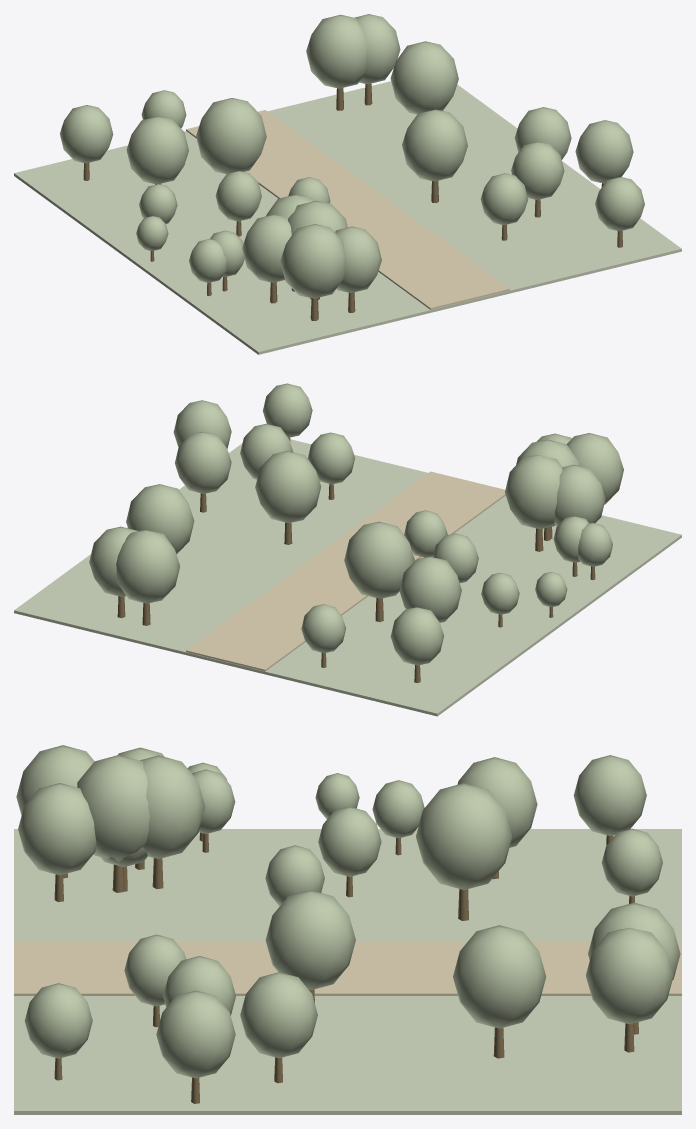
The picture shows the model from 3 angles, top to bottom: view 1: azimuth 30°, elevation 25°; view 2: azimuth 150°, elevation 25°; view 3: azimuth 270°, elevation 25°; orthographic projection. The views are drawn at different scales.
Parts seen in each view (by area): view 1: terrain, object 2, lod-near-6, lod-near-26, lod-near-12, lod-near-13, lod-near-25, lod-near-17, lod-near-18, lod-near-16, lod-near-22, lod-near-14 (+14 smaller); view 2: terrain, object 2, lod-near-6, lod-near-25, lod-near-13, lod-near-4, lod-near-12, lod-near-17, lod-near-19, lod-near-22, lod-near-16, lod-near-26 (+13 smaller); view 3: terrain, object 2, lod-near-6, lod-near-12, lod-near-13, lod-near-21, lod-near-15, lod-near-7, lod-near-18, lod-near-19, lod-near-4, lod-near-22 (+12 smaller).
Boxes of the visible parts, x1,y1,x2,y2 form: terrain: [14, 81, 681, 354]; object 2: [186, 110, 509, 309]; lod-near-6: [196, 98, 266, 173]; lod-near-26: [280, 224, 345, 298]; lod-near-12: [390, 41, 458, 114]; lod-near-13: [402, 109, 467, 181]; lod-near-25: [306, 14, 367, 88]; lod-near-17: [126, 116, 188, 184]; lod-near-18: [575, 120, 633, 183]; lod-near-16: [242, 214, 291, 282]; lod-near-22: [60, 105, 113, 163]; lod-near-14: [511, 141, 564, 199]; terrain: [14, 439, 681, 716]; object 2: [186, 471, 505, 671]; lod-near-6: [344, 521, 414, 598]; lod-near-25: [116, 529, 180, 603]; lod-near-13: [255, 451, 321, 522]; lod-near-4: [505, 455, 562, 529]; lod-near-12: [126, 484, 194, 554]; lod-near-17: [399, 556, 461, 622]; lod-near-19: [175, 431, 231, 493]; lod-near-22: [390, 607, 443, 665]; lod-near-16: [554, 464, 605, 526]; lod-near-26: [566, 433, 623, 504]; terrain: [14, 829, 681, 1114]; object 2: [14, 941, 681, 995]; lod-near-6: [416, 783, 512, 889]; lod-near-12: [453, 925, 546, 1028]; lod-near-13: [265, 890, 355, 990]; lod-near-21: [586, 927, 673, 1024]; lod-near-15: [77, 755, 149, 861]; lod-near-7: [18, 783, 96, 875]; lod-near-18: [156, 990, 235, 1078]; lod-near-19: [240, 972, 317, 1058]; lod-near-4: [140, 755, 205, 858]; lod-near-22: [573, 755, 646, 835].
Bounding box in the file's own units: 33.22 × 7.3 × 32.
